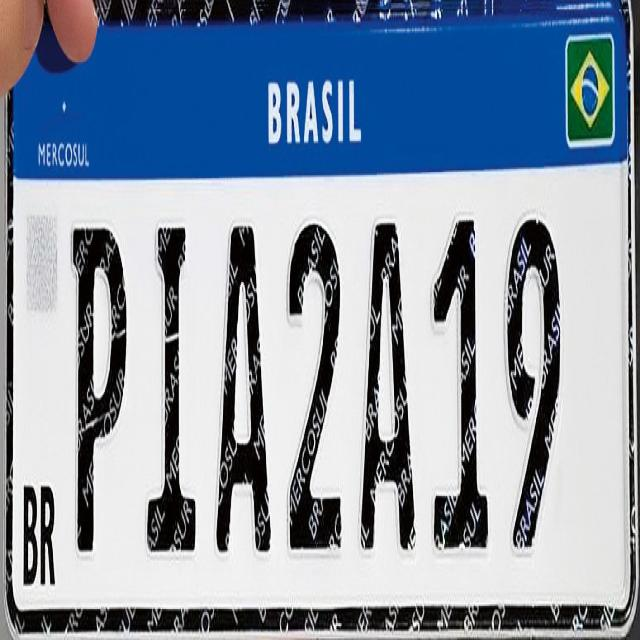Placa_mercosul_carro: (3, 0, 639, 601)
